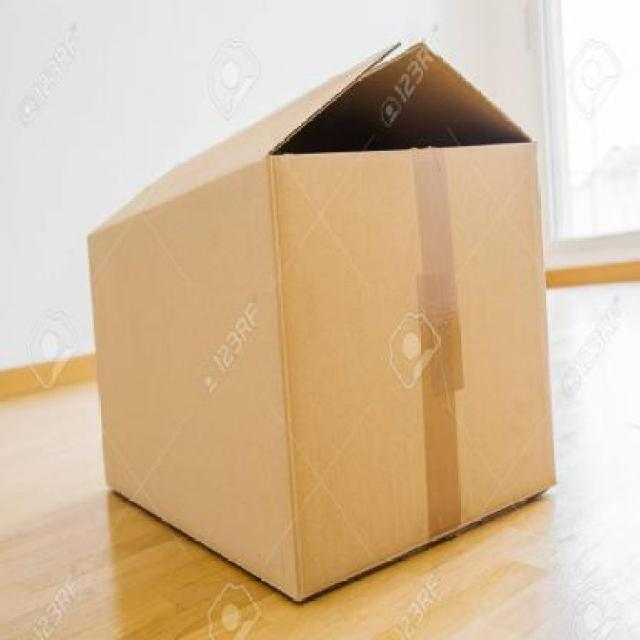box: (84, 42, 553, 608)
